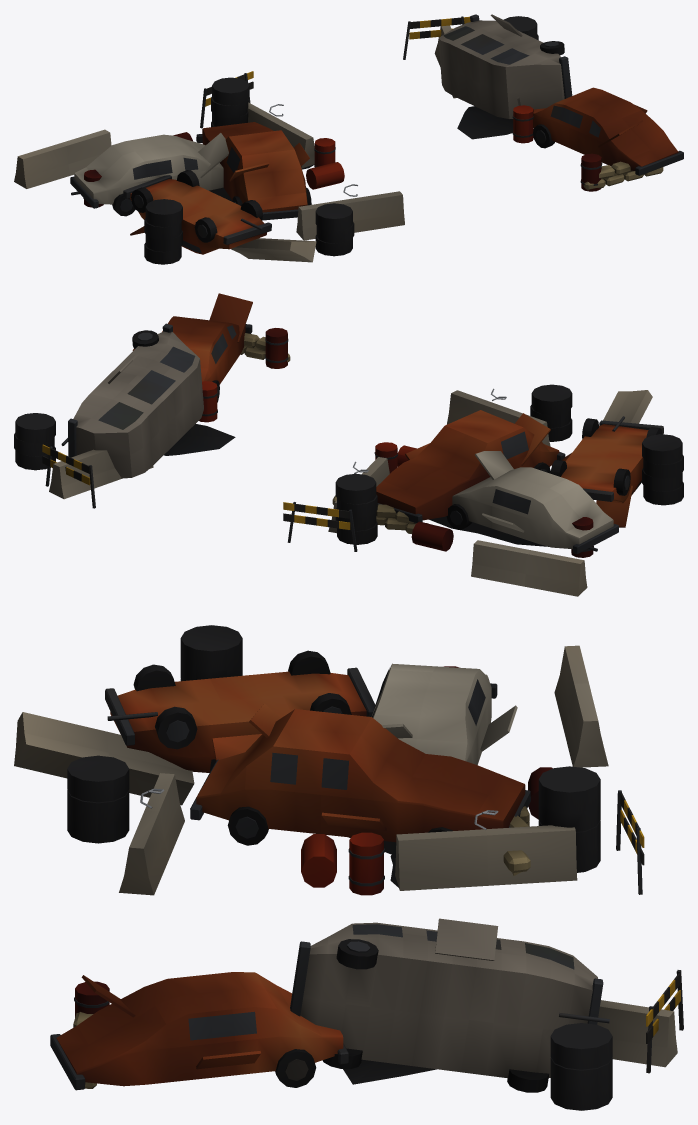
Rendered from roadblock_wreck_line.glb.
3 renders of one model, top to bottom at view 1: azimuth 30°, elevation 25°; view 2: azimuth 150°, elevation 25°; view 3: azimuth 270°, elevation 25°, orthographic. The views are drawn at different scales.
Parts seen in each view (by area): view 1: rust, paint, concrete, rubber, metal_dark, hazard, canvas; view 2: rust, paint, rubber, concrete, metal_dark, hazard, canvas; view 3: rust, paint, concrete, rubber, metal_dark, hazard, canvas.
Boxes of the visible parts, box(x1,y1,x2,y2) form: rust: box(84, 87, 678, 254); paint: box(74, 14, 564, 204); concrete: box(14, 25, 456, 262); rubber: box(112, 16, 564, 264); metal_dark: box(70, 14, 683, 253); hazard: box(205, 16, 470, 106); canvas: box(583, 161, 663, 190); rust: box(132, 293, 648, 557); paint: box(73, 331, 613, 548); rubber: box(14, 330, 683, 544); concrete: box(49, 390, 652, 596); metal_dark: box(45, 323, 663, 554); hazard: box(42, 444, 350, 529); canvas: box(240, 333, 427, 533); rust: box(56, 666, 552, 1086); paint: box(300, 663, 597, 1078); concrete: box(14, 645, 677, 1067); rubber: box(67, 625, 612, 1110); metal_dark: box(50, 667, 683, 1090); hazard: box(620, 793, 680, 1043); canvas: box(73, 806, 530, 1088).
Size of what is drawn, in the model's own units: 16.68 by 2.97 by 11.23.
